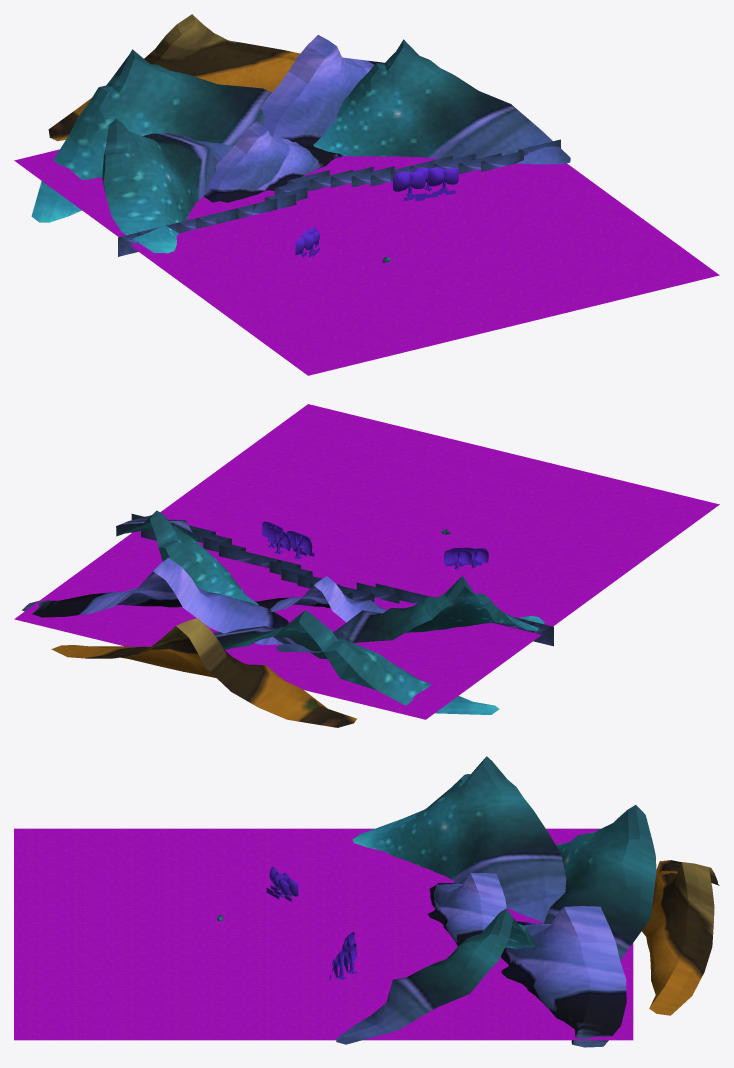
Rendered from 322_bg_grassC.fbx.
3 views of the same model, one above another, from view 1: azimuth 30°, elevation 25°; view 2: azimuth 150°, elevation 25°; view 3: azimuth 270°, elevation 25° (orthographic). The views are drawn at different scales.
Visible parts, largest first — view 1: ground, polySurface1, polySurface17, polySurface18, polySurface19, polySurface20, polySurface16; view 2: ground, polySurface20, polySurface19, polySurface17, polySurface18, polySurface1, polySurface16; view 3: ground, polySurface18, polySurface19, polySurface17, polySurface20, polySurface1, polySurface16.
Part boxes in pixels (x1,y1,x2,y2): ground: (14, 149, 719, 375); polySurface1: (313, 39, 570, 164); polySurface17: (31, 49, 271, 222); polySurface18: (102, 118, 233, 253); polySurface19: (260, 35, 384, 144); polySurface20: (48, 14, 300, 141); polySurface16: (203, 121, 343, 202); ground: (14, 404, 719, 719); polySurface20: (51, 618, 356, 727); polySurface19: (22, 557, 288, 644); polySurface17: (213, 610, 499, 714); polySurface18: (276, 576, 544, 652); polySurface1: (116, 510, 258, 604); polySurface16: (255, 576, 386, 622); ground: (14, 828, 633, 1040); polySurface18: (352, 756, 566, 922); polySurface19: (501, 906, 626, 1047); polySurface17: (544, 805, 656, 960); polySurface20: (642, 860, 719, 1015); polySurface1: (336, 908, 535, 1044); polySurface16: (428, 873, 506, 945).
Size of the model in its own units: 5571 by 1254 by 7272.
